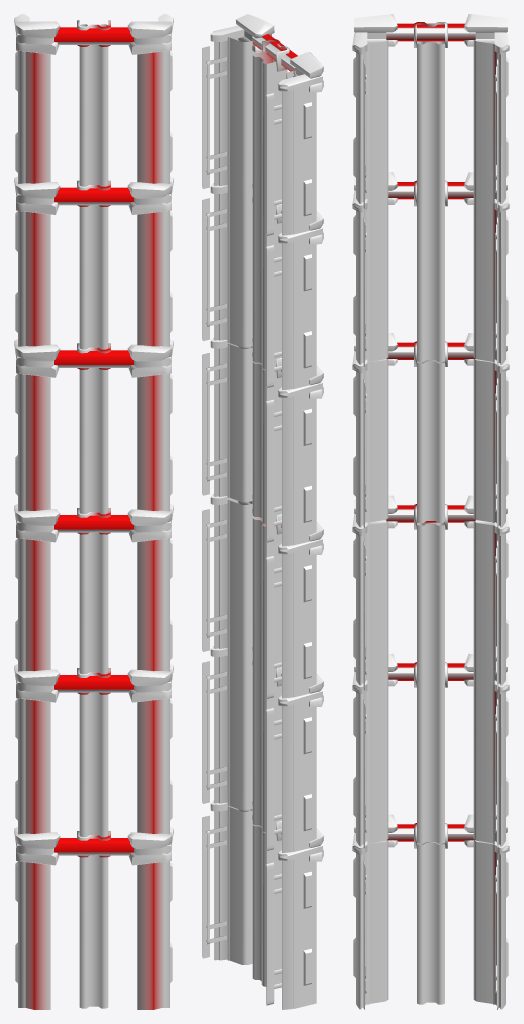
File: MIDMK3.FBX
3 renders of one model, left to right at view 1: azimuth 90°, elevation 25°; view 2: azimuth 210°, elevation 25°; view 3: azimuth 270°, elevation 25°, orthographic. The views are drawn at different scales.
Visible parts, largest first — view 1: ConveyorLiftMid_Mk3_static_LOD0; view 2: ConveyorLiftMid_Mk3_static_LOD0; view 3: ConveyorLiftMid_Mk3_static_LOD0.
Part boxes in pixels (x1,y1,x2,y2): ConveyorLiftMid_Mk3_static_LOD0: (14,14,173,1009); ConveyorLiftMid_Mk3_static_LOD0: (202,14,323,1009); ConveyorLiftMid_Mk3_static_LOD0: (352,14,509,1009).
Size of the model in its own units: 78.97 by 1222 by 178.
